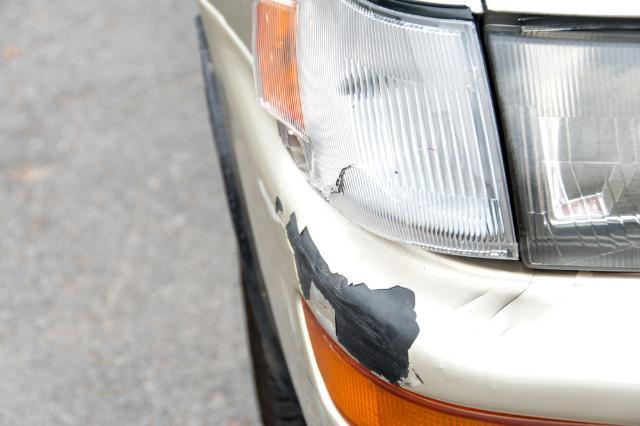lamp broken: (251, 0, 522, 266)
scratch: (257, 181, 424, 392)
